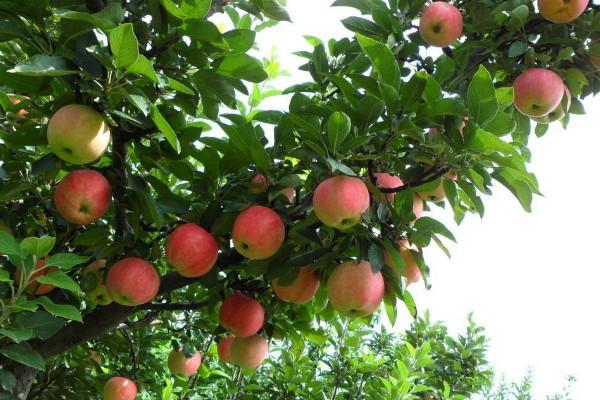apple: (46, 102, 108, 166), (52, 166, 113, 228), (326, 259, 384, 317), (229, 204, 285, 263), (311, 174, 369, 230), (165, 221, 218, 277), (103, 256, 159, 306), (511, 67, 565, 116), (218, 291, 265, 336), (418, 1, 463, 46), (168, 347, 201, 377), (101, 376, 137, 399)
